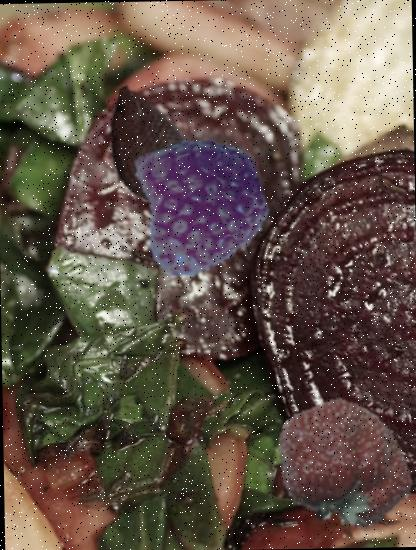Raspberry: (133, 135, 271, 273)
Salak: (77, 81, 222, 226)
Strawberry: (270, 392, 416, 536)
